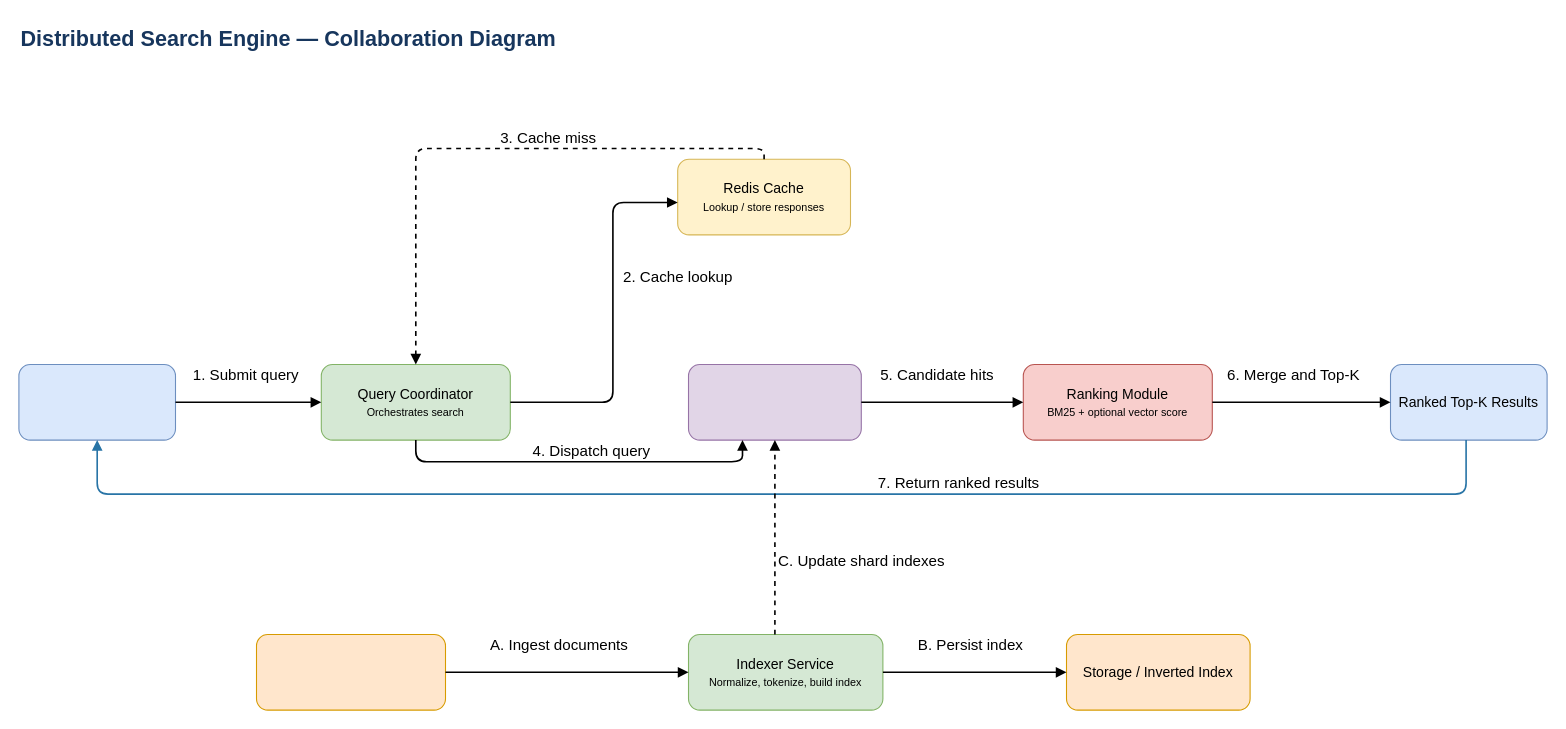
The diagram is 1566 pixels wide and 729 high, and some of its shapes have lost their labels. The shapes that lost their labels are listed below. From the top down, each one's box as (x1, y1, x2, y2) in pixels, then its label:
(18, 363, 176, 440): User Submits query / views results
(687, 363, 861, 440): Search Shards Parallel local index search
(255, 633, 446, 710): Content Source Raw documents
